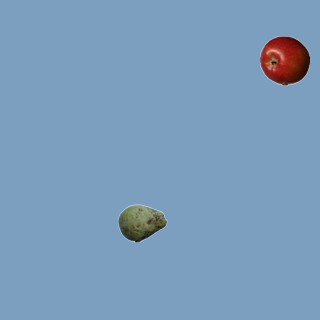Apple Braeburn: (259, 35, 309, 85)
Pear Stone: (117, 198, 167, 248)
